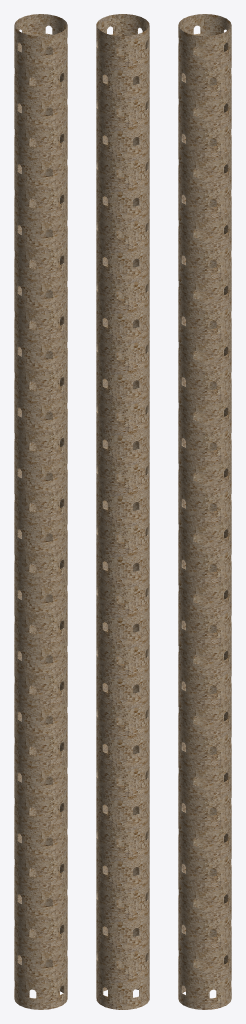
File: toushort.fbx
3 renders of one model, left to right at view 1: azimuth 90°, elevation 25°; view 2: azimuth 210°, elevation 25°; view 3: azimuth 270°, elevation 25°, orthographic.
Visible parts, largest first — view 1: pPipe30; view 2: pPipe30; view 3: pPipe30.
Part boxes in pixels (x1,y1,x2,y2): pPipe30: (14, 14, 67, 1009); pPipe30: (96, 14, 149, 1009); pPipe30: (178, 14, 231, 1009).
Size of the model in its own units: 35.91 by 720 by 35.93.
